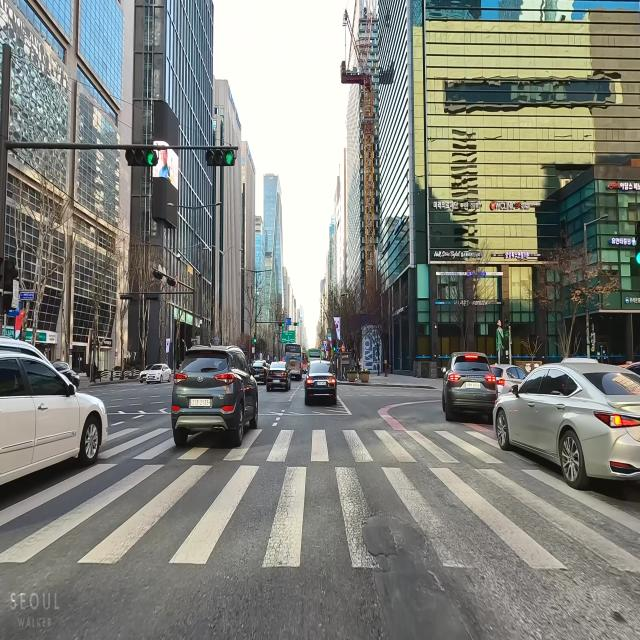Green Light: (146, 148, 155, 166), (224, 150, 234, 164)
